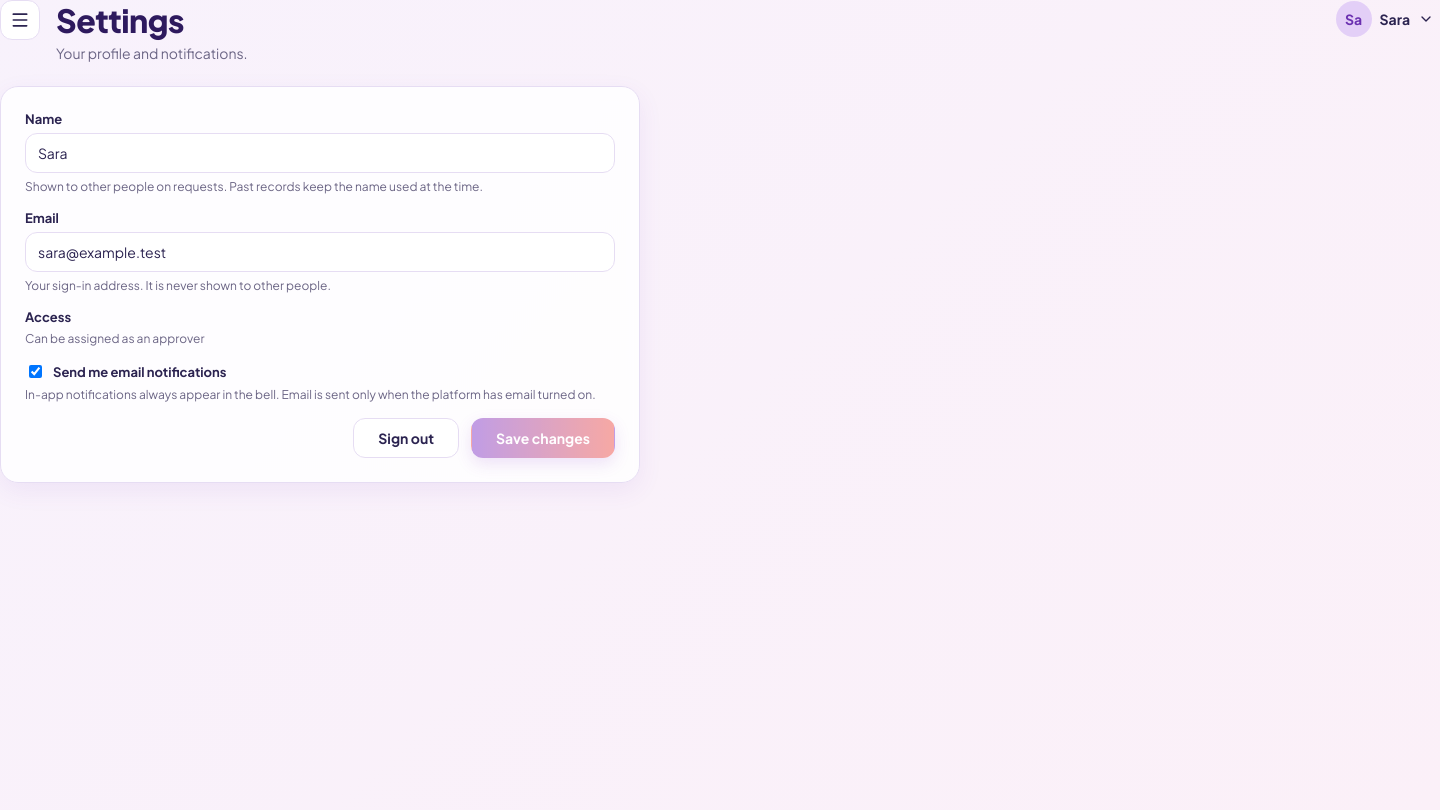
Scenario: Settings › saving sends only what changed, then reloads the profile
Expected: the button "Save changes" is disabled, 471,418 -> 615,458
Step 1. Replace the text in the field labelled "Name" with "  Sara A  " → [320, 153], box 25,133 -> 615,173
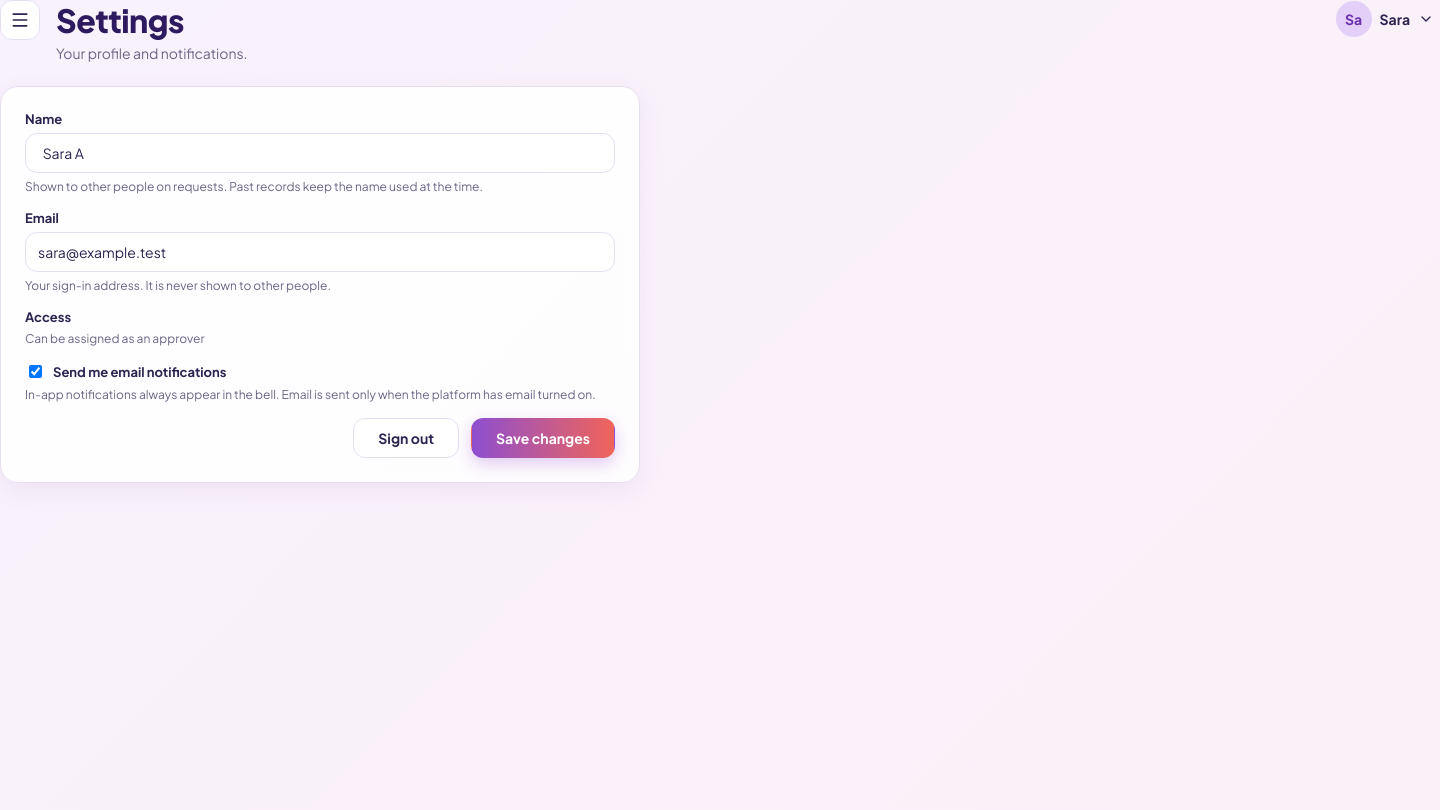
Step 2. Click the checkbox labelled "Send me email notifications" → [36, 372], box 29,365 -> 42,378
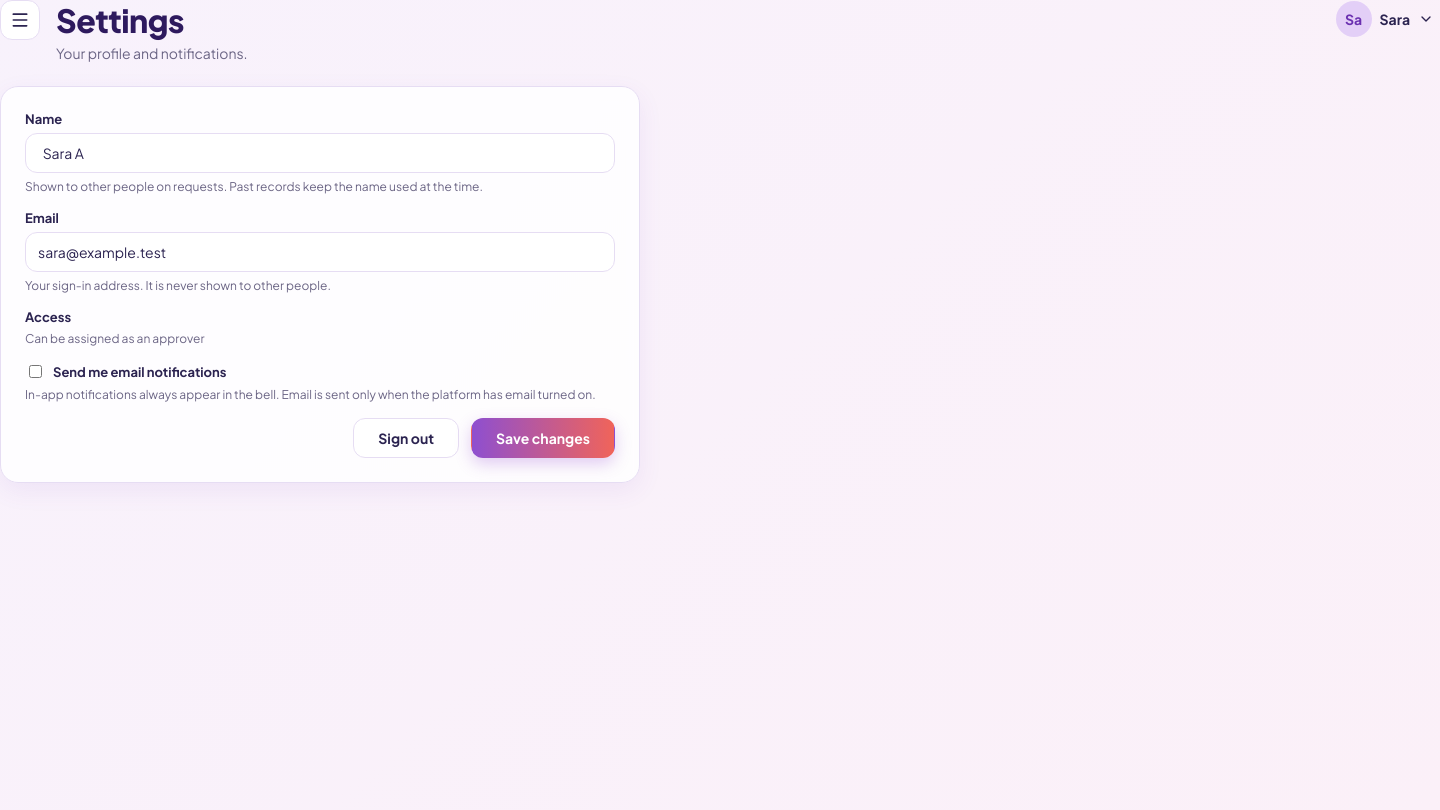
Step 3. Click the button "Save changes" → [543, 438], box 471,418 -> 615,458
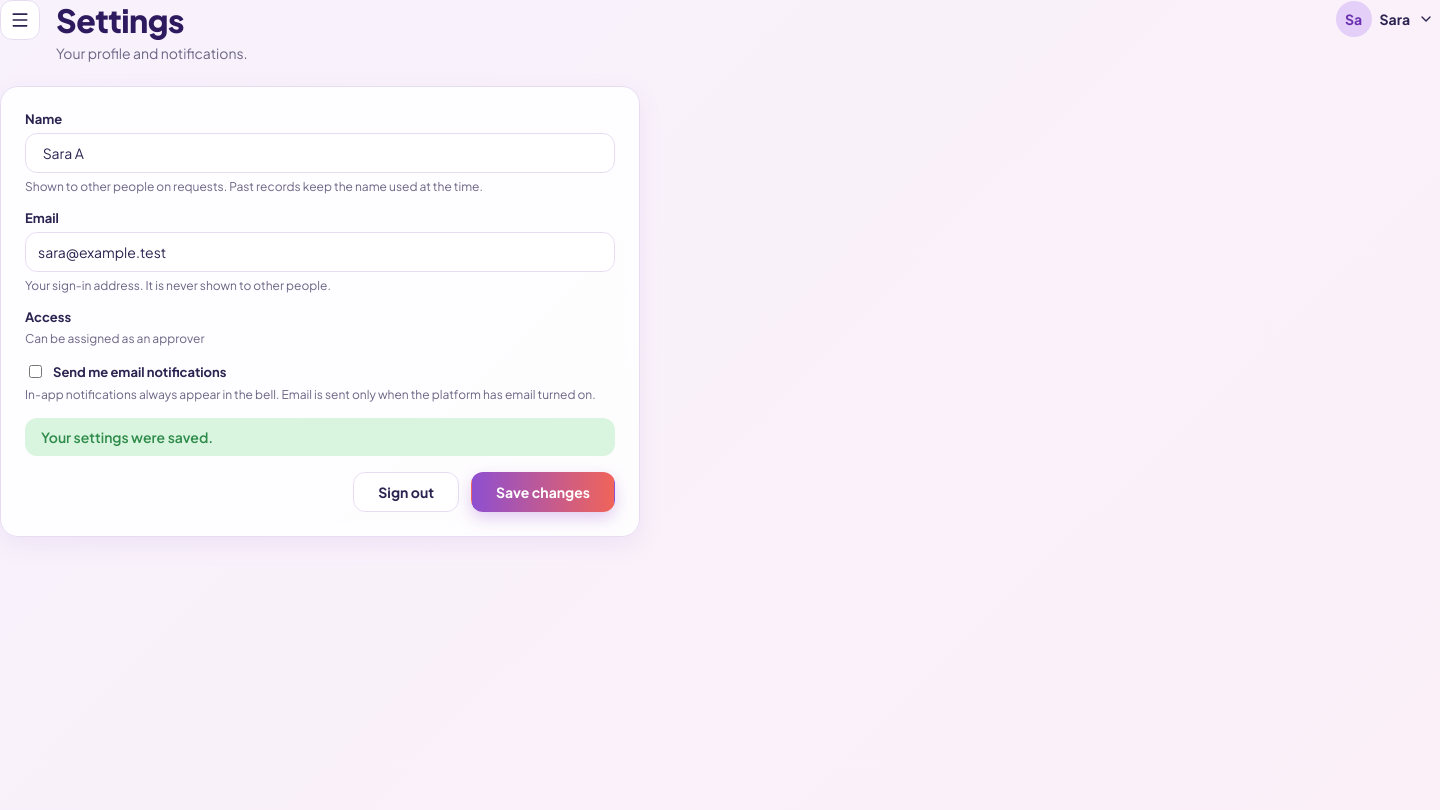
Expected: the message shows "saved", 41,428 -> 213,446
